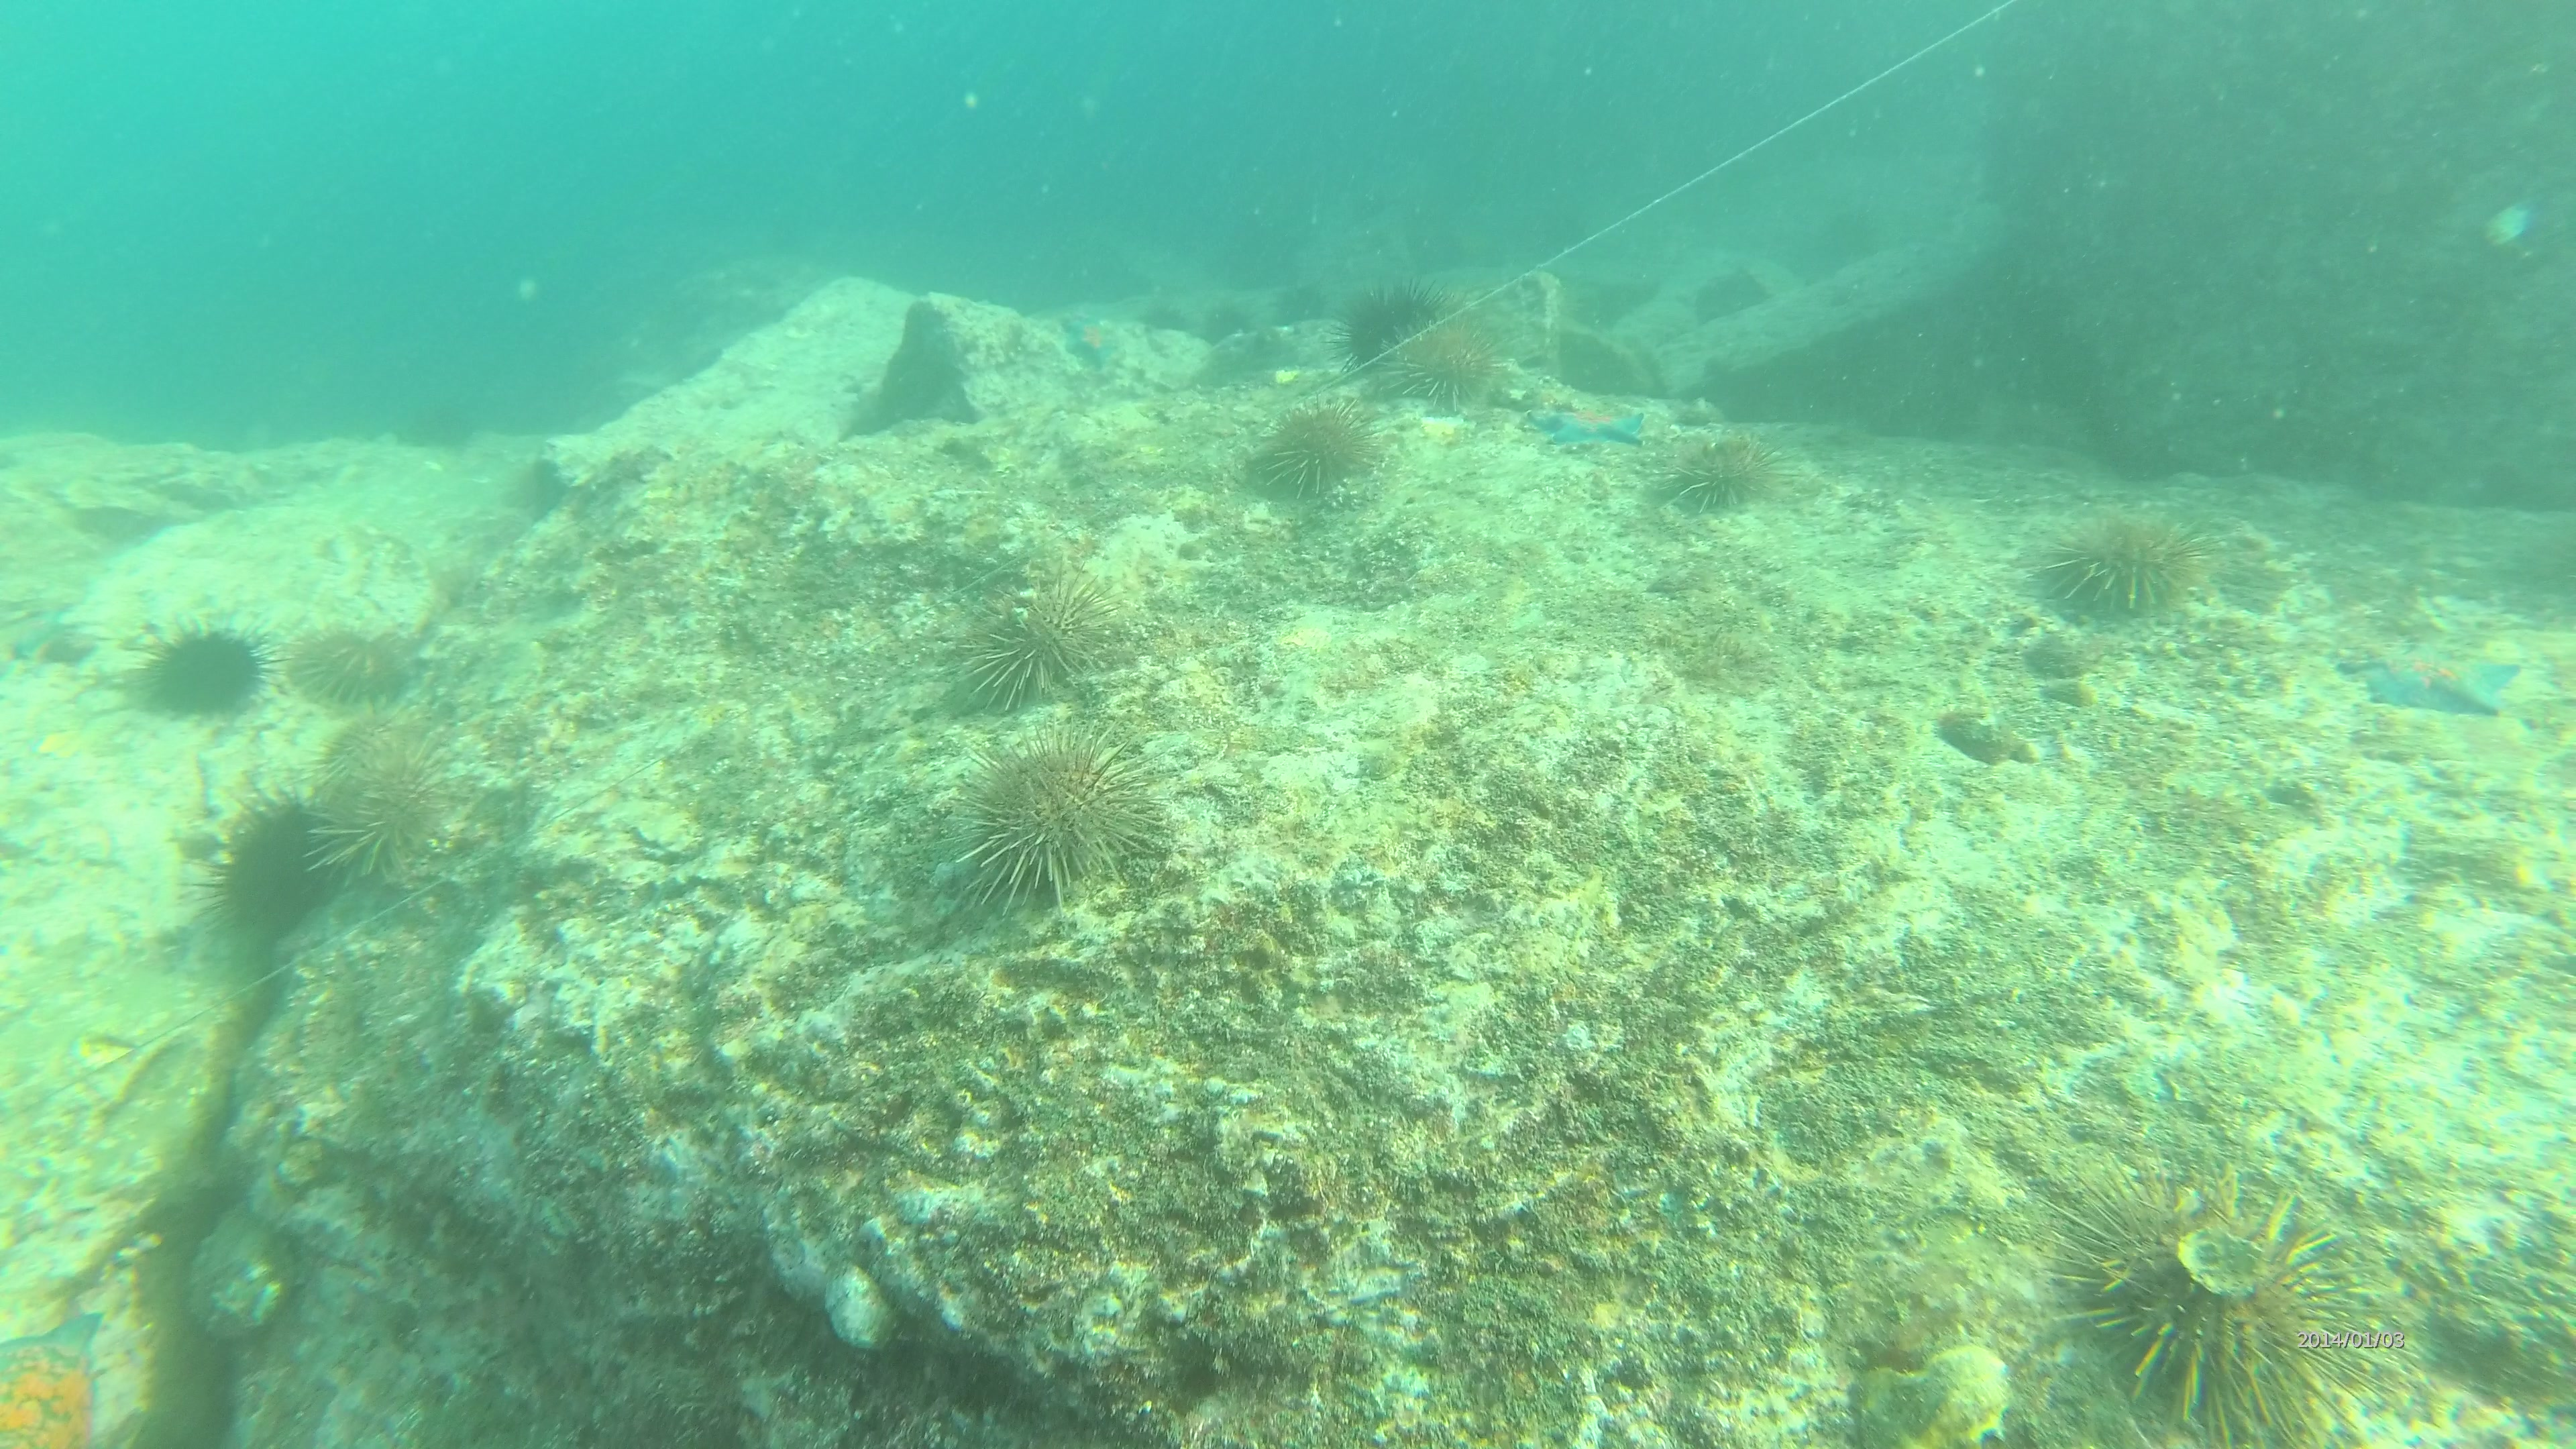echinus: (2068, 1157, 2360, 1440), (955, 718, 1169, 908), (301, 738, 472, 886), (2028, 499, 2217, 628), (189, 803, 357, 938), (966, 575, 1118, 702), (136, 616, 283, 713), (1368, 306, 1495, 418), (1263, 402, 1376, 508), (1334, 280, 1442, 380), (295, 626, 412, 718), (1672, 430, 1782, 511)
starfish: (2351, 625, 2516, 725), (0, 1315, 113, 1449), (1532, 396, 1651, 453), (1054, 306, 1123, 368)
